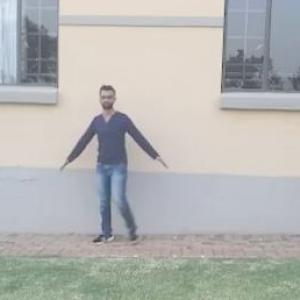land: (64, 91, 174, 259)
